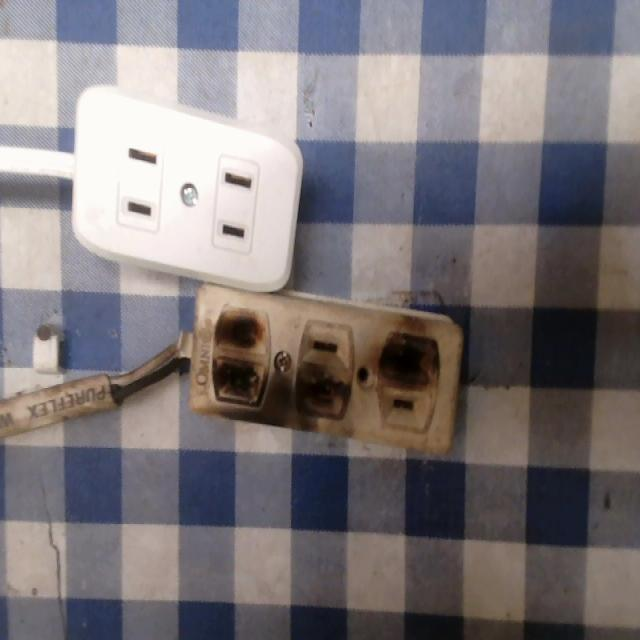-: (210, 300, 271, 419), (374, 314, 439, 394), (289, 365, 356, 431)
